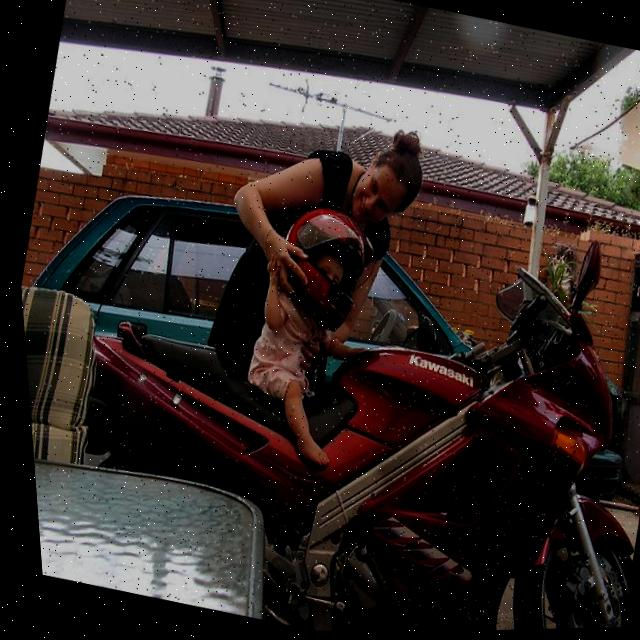motorcycle: (21, 127, 640, 640)
